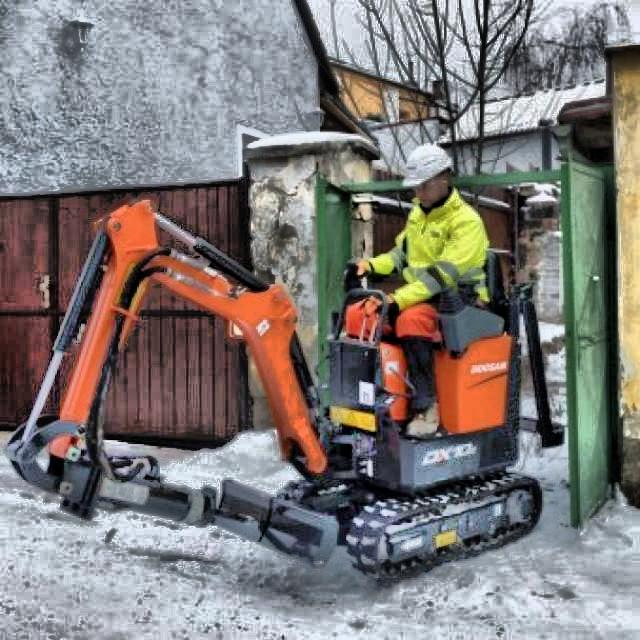bull_dozer/loader/grader: (1, 194, 548, 594)
person: (348, 144, 492, 445)
